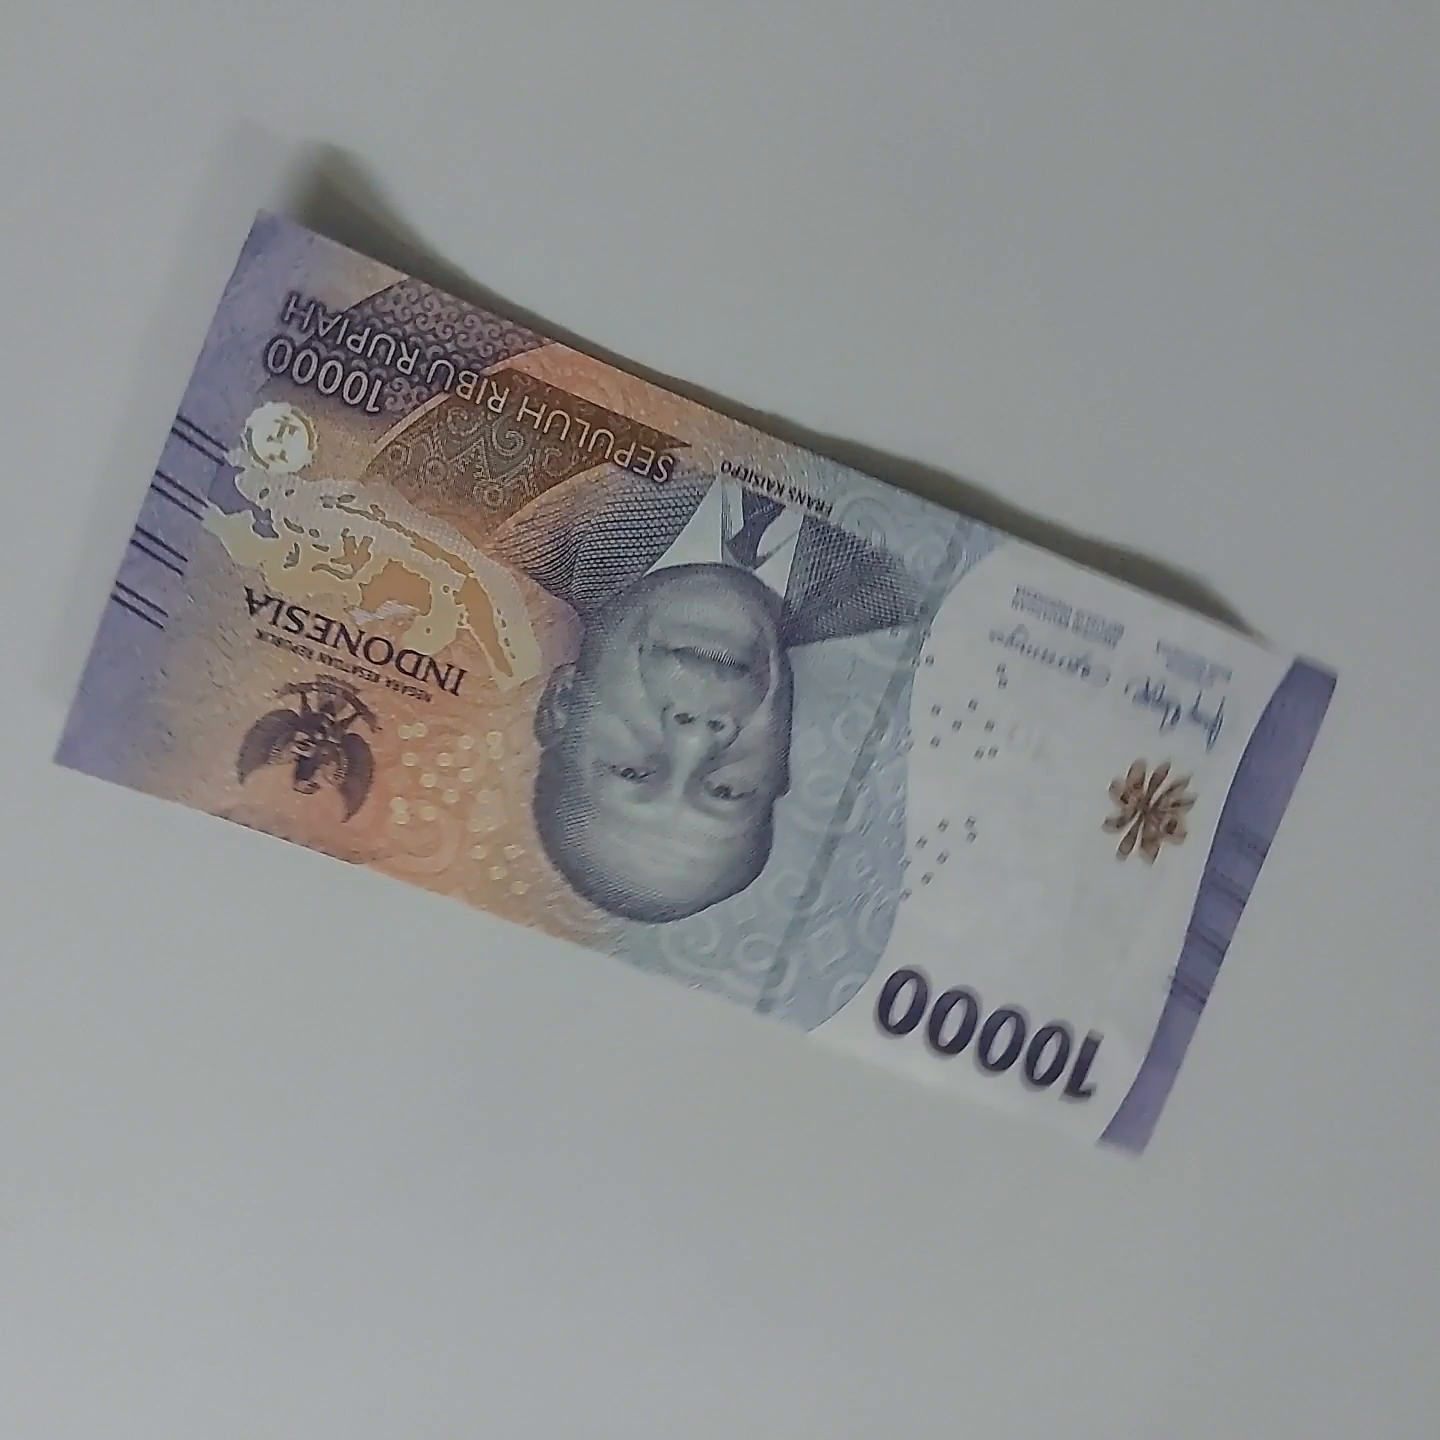10k: (261, 222, 1425, 786)
